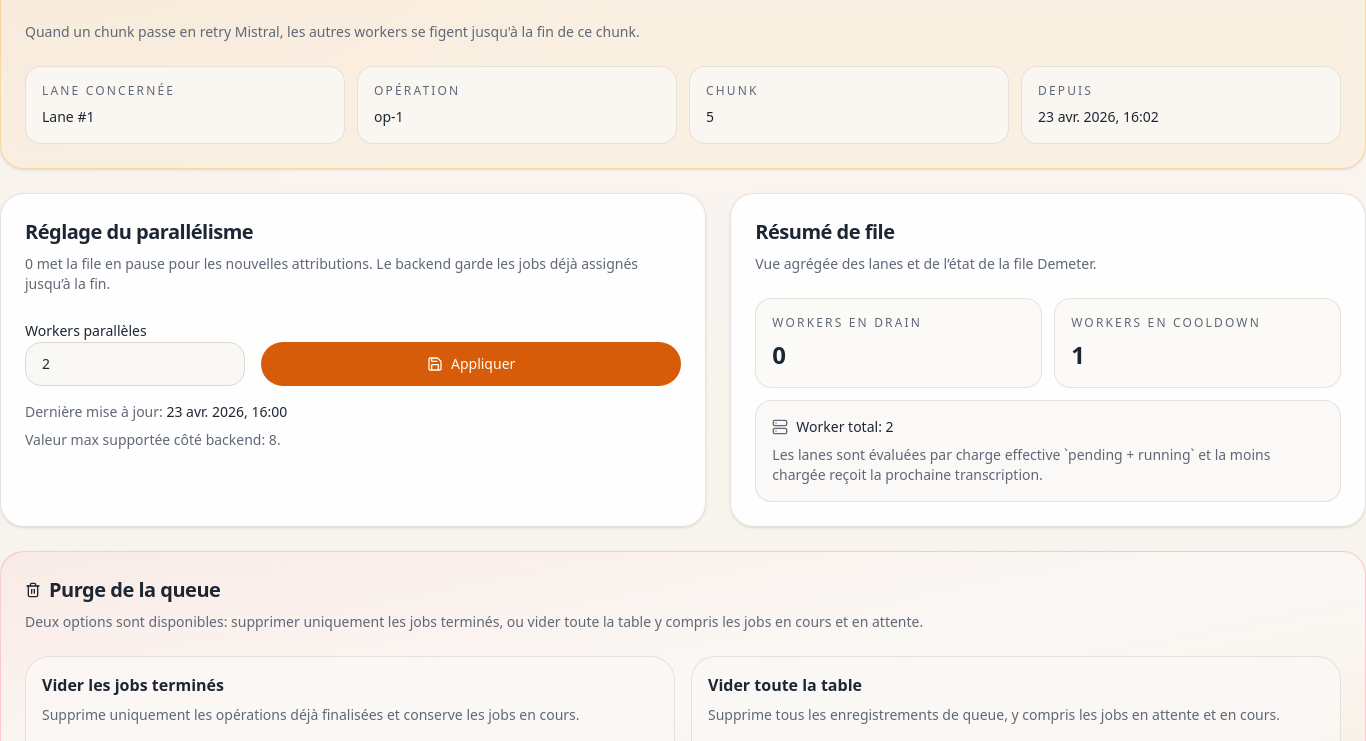
Test: DemeterQueuePage › sends parallelism updates through websocket while authenticated
This screenshot has width=1366, height=741.
(page scrolled)
Replace the text in the number field labelled "Workers parallèles" with "4": (135, 364) [25, 342, 245, 386]
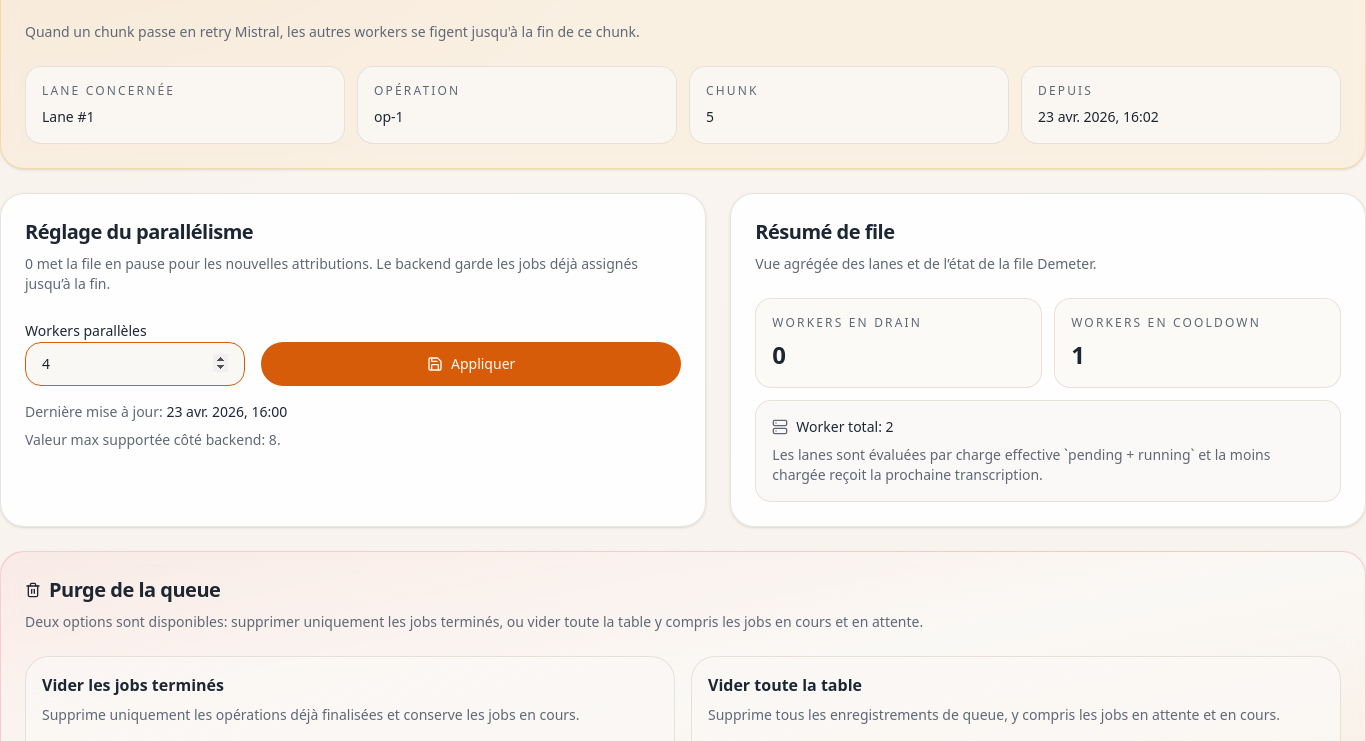
Click the button "Appliquer": (471, 364) [261, 342, 681, 386]
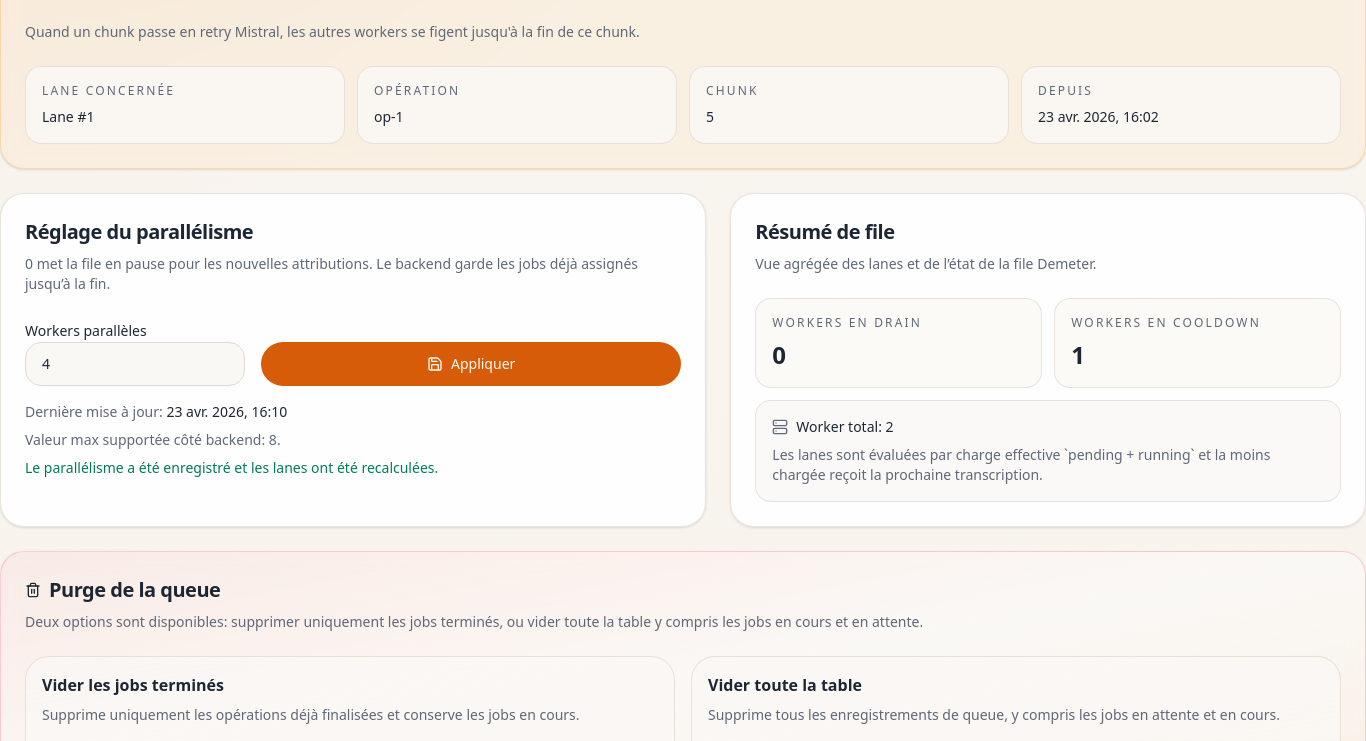
Now the text "Le parallélisme a été enregistré et les lanes ont été recalculées." is shown, box [25, 458, 438, 476]
